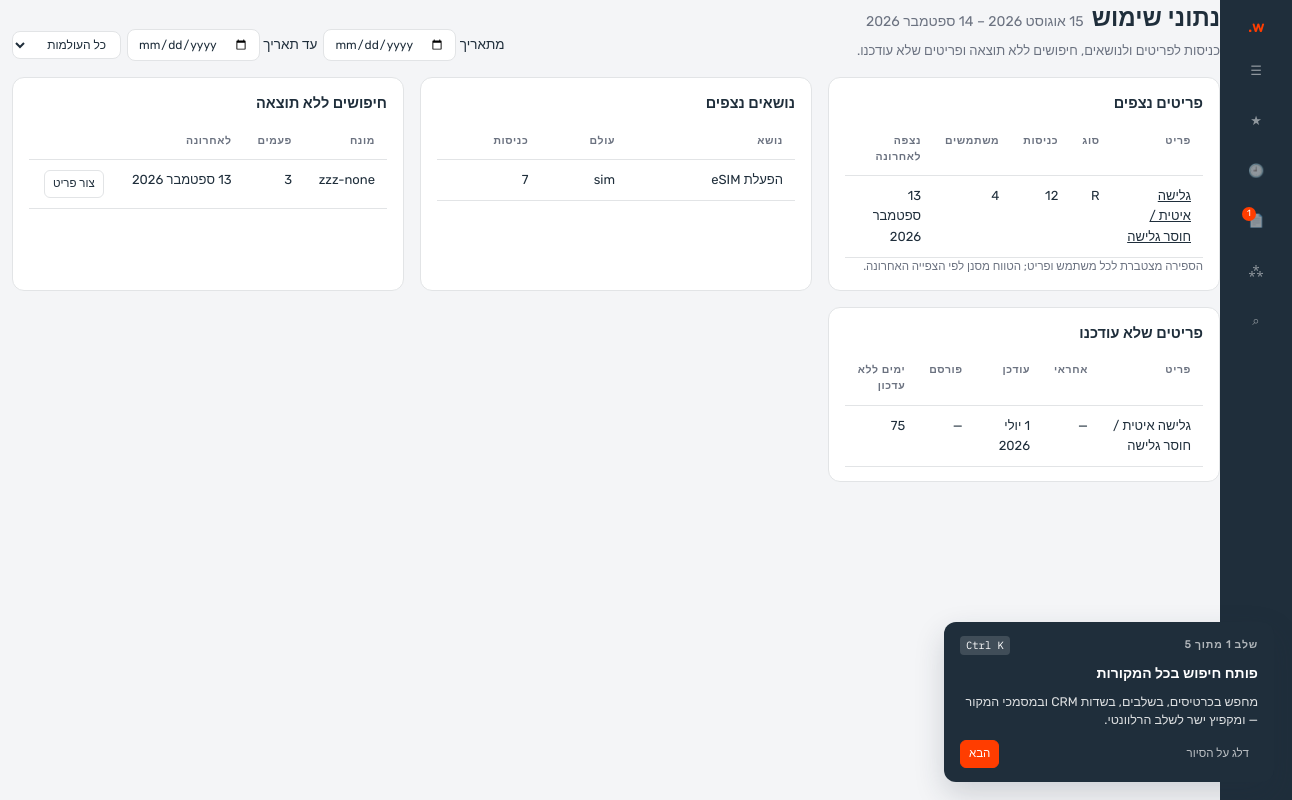
analytics page › puts the world filter in the URL and refetches
The image size is (1292, 800).
Expected: the text "zzz-none" is shown, [304,160,387,208]
Select "חיובים" in the dropdown named "עולם תוכן" at (66, 45), box [12,31,121,59]
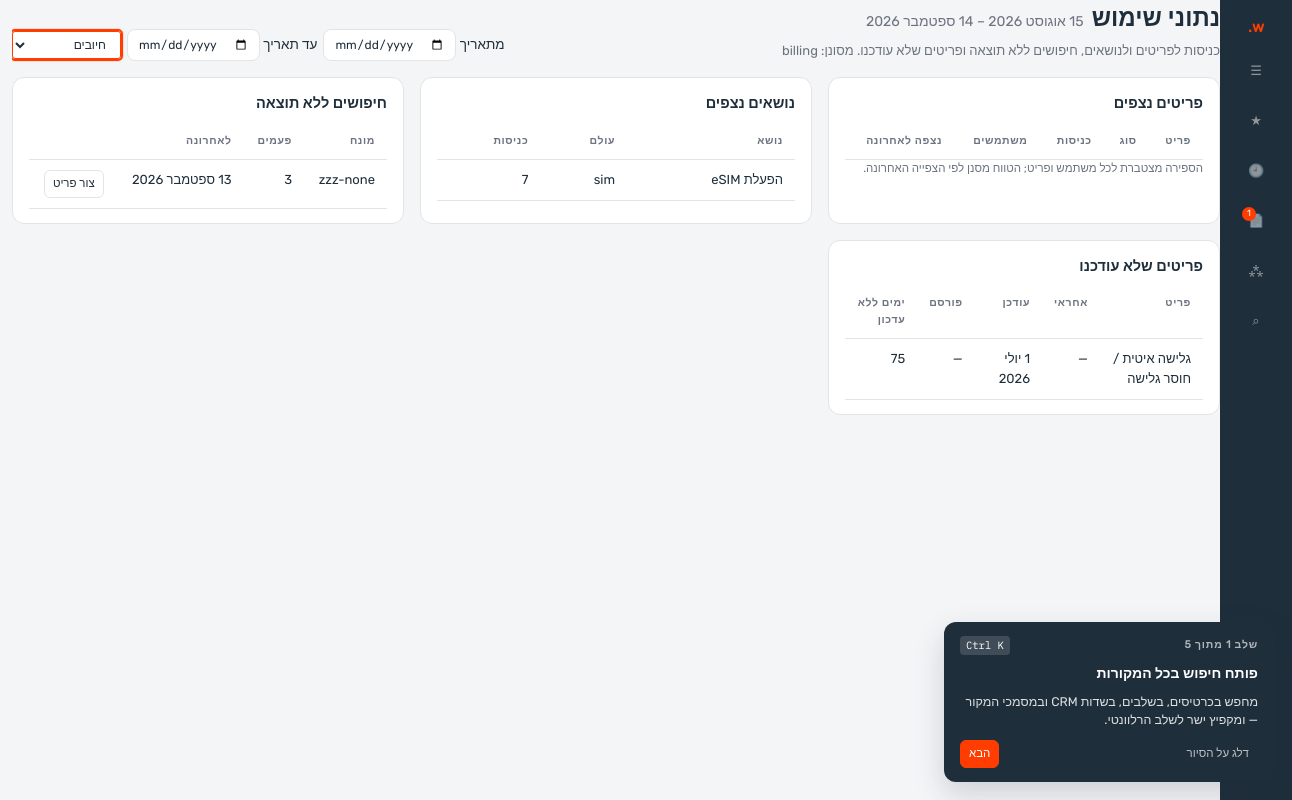
Now the text "מסונן: billing" is shown, box [782,43,857,58]
